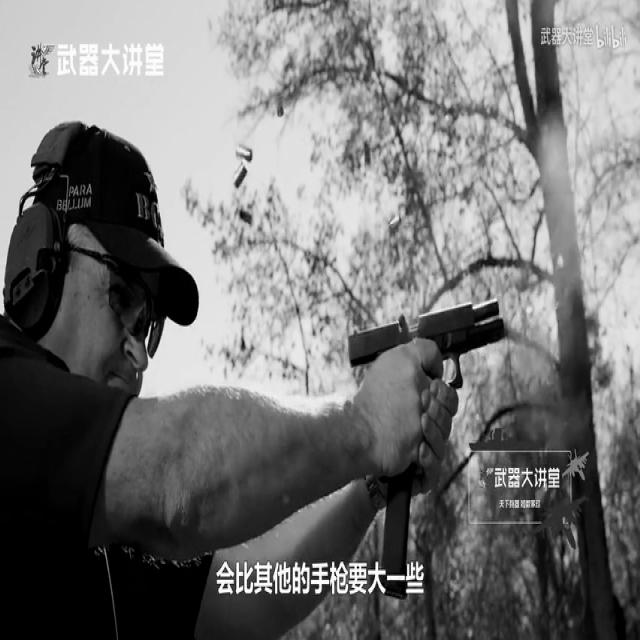Sub-machine-gun: (322, 234, 551, 598)
